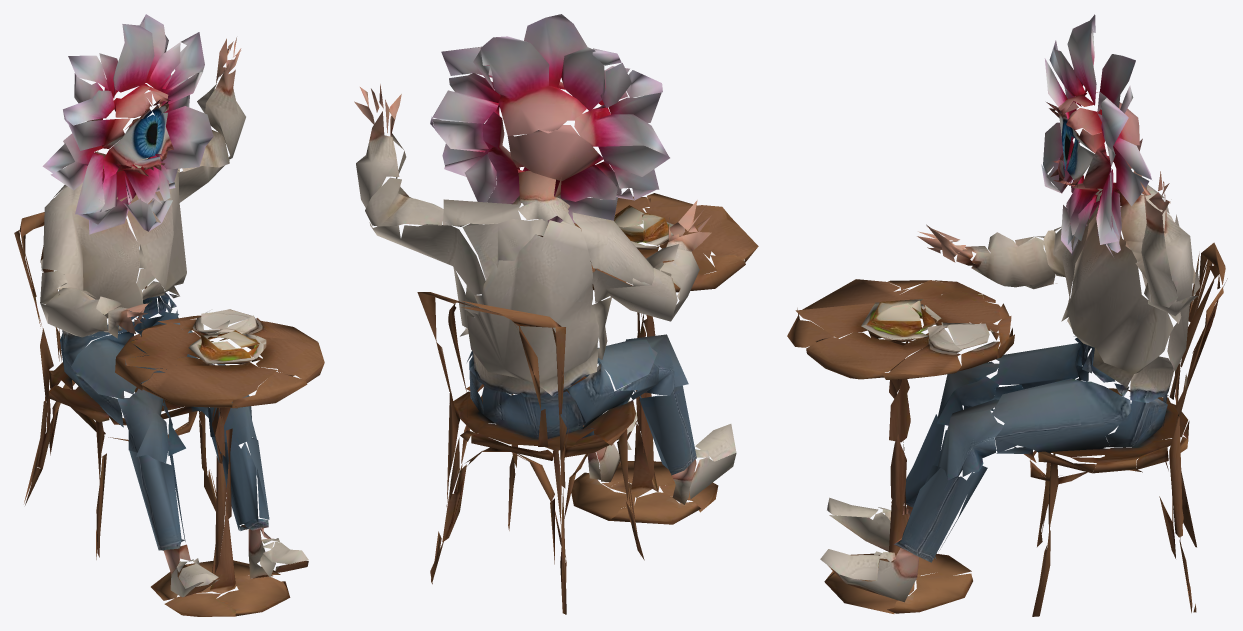
File: sally.glb
3 views of the same model, side by side, from view 1: azimuth 30°, elevation 25°; view 2: azimuth 150°, elevation 25°; view 3: azimuth 270°, elevation 25° (orthographic). The views are drawn at different scales.
Visible parts, largest first — view 1: tripo_node_7916a89c-a101-44cf-a692-2e2f98568ff6; view 2: tripo_node_7916a89c-a101-44cf-a692-2e2f98568ff6; view 3: tripo_node_7916a89c-a101-44cf-a692-2e2f98568ff6.
Part boxes in pixels (<box>): tripo_node_7916a89c-a101-44cf-a692-2e2f98568ff6: <box>14,14,324,616</box>; tripo_node_7916a89c-a101-44cf-a692-2e2f98568ff6: <box>354,14,758,614</box>; tripo_node_7916a89c-a101-44cf-a692-2e2f98568ff6: <box>787,14,1227,616</box>.
Bounding box in the file's own units: 0.5129 × 1 × 0.716.
1 material, 1 textured.
